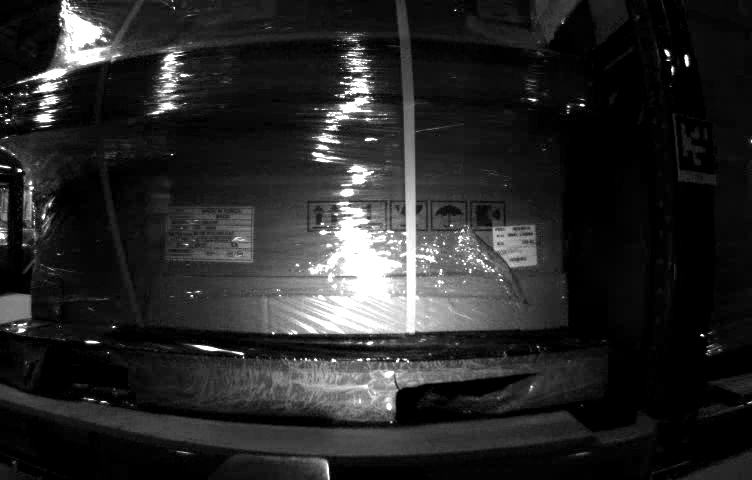True Barcode: (492, 223, 537, 267)
